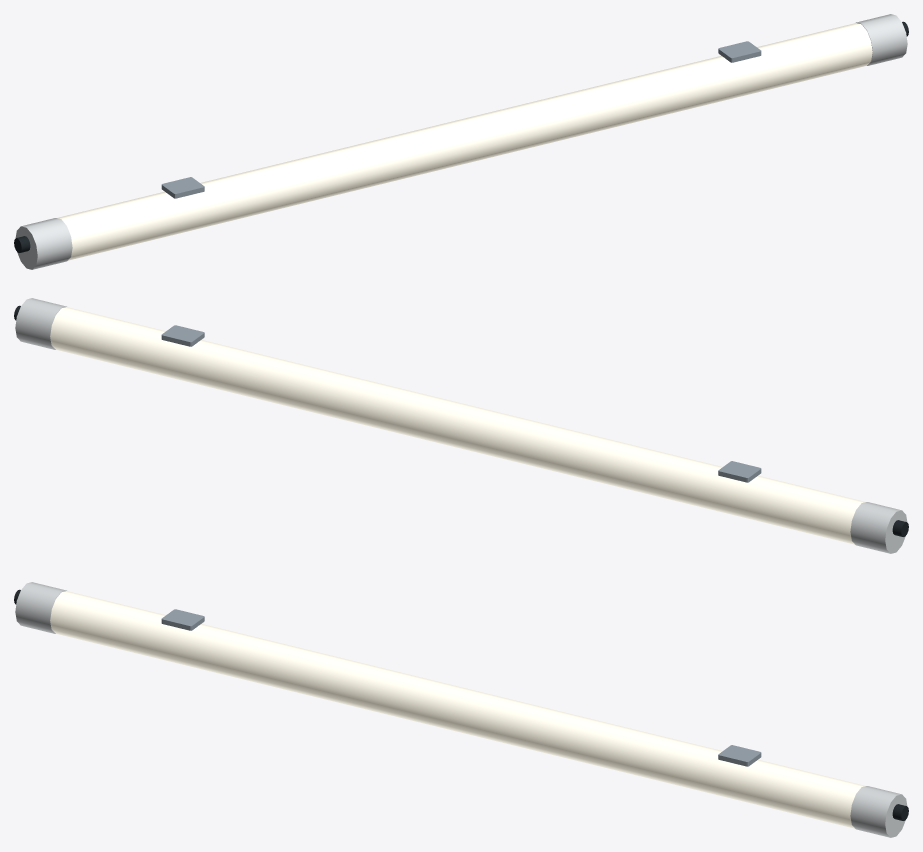
File: source.glb
The picture shows the model from 3 angles, top to bottom: view 1: azimuth 30°, elevation 25°; view 2: azimuth 150°, elevation 25°; view 3: azimuth 330°, elevation 25°; orthographic projection.
Visible parts, largest first — view 1: Emitters, 粉末涂层铝壳, 机加工金属; view 2: Emitters, 粉末涂层铝壳, 机加工金属; view 3: Emitters, 粉末涂层铝壳, 机加工金属.
Boxes of the visible parts, x1,y1,x2,y2 form: Emitters: (57, 23, 872, 260); 粉末涂层铝壳: (15, 14, 907, 269); 机加工金属: (161, 41, 761, 198); Emitters: (50, 307, 865, 544); 粉末涂层铝壳: (15, 298, 907, 553); 机加工金属: (161, 325, 761, 482); Emitters: (50, 591, 865, 828); 粉末涂层铝壳: (15, 582, 907, 837); 机加工金属: (161, 609, 761, 766).
Bounding box in the file's own units: 1.53 × 0.0738 × 0.0673.
